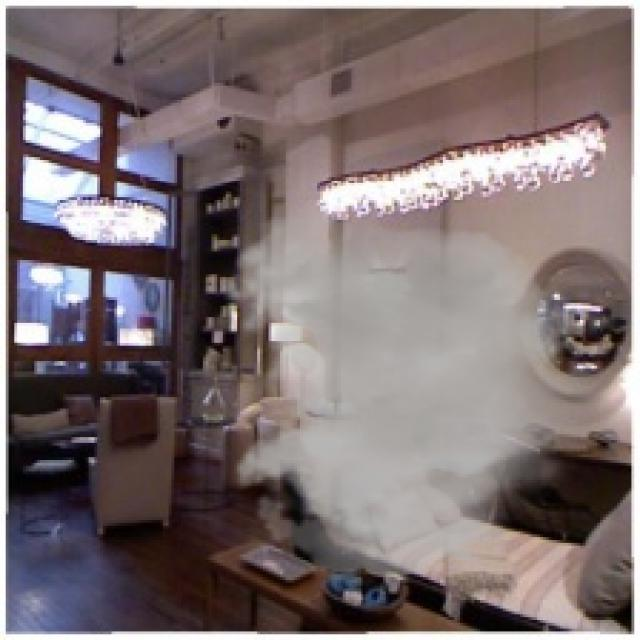smoke: (223, 212, 620, 577)
